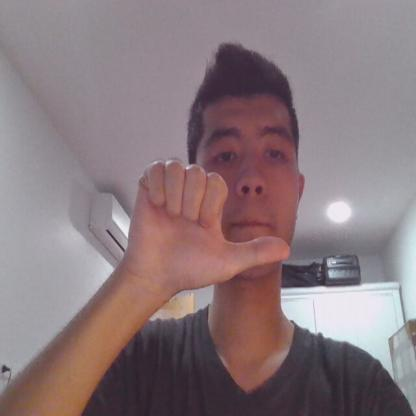left: (126, 156, 291, 302)
